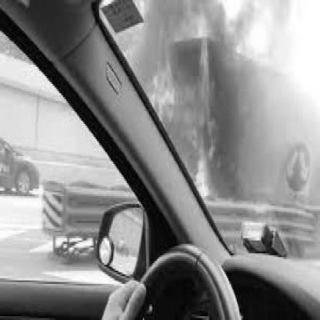Fire: (148, 3, 220, 203)
